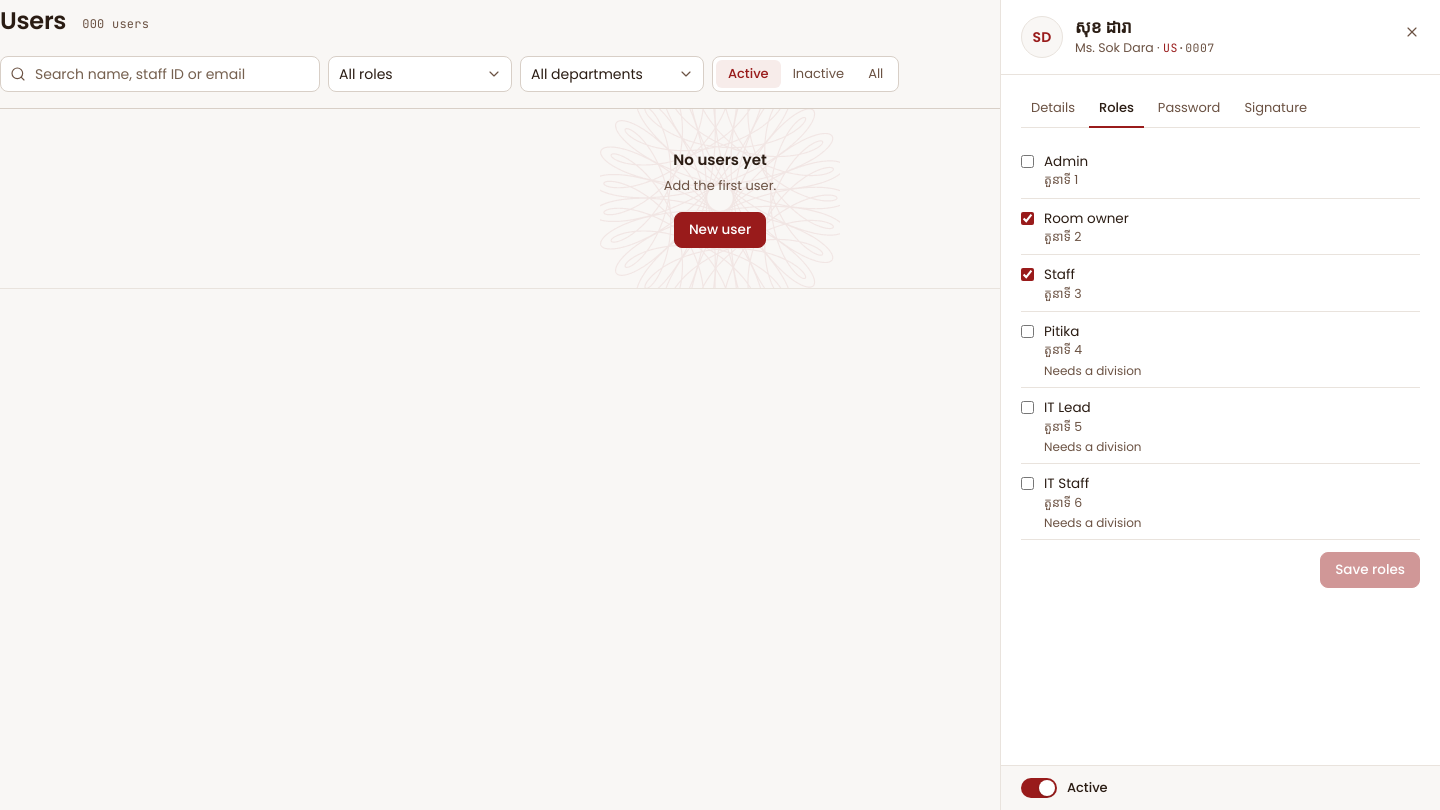
Test case: UserPanel › warns that some roles need a division, and keeps Save roles off
This screenshot has width=1440, height=810.
Click the checkbox labelled "IT Lead តួនាទី 5".
click(1028, 408)  # box top-left (1021, 401), bottom-right (1034, 414)
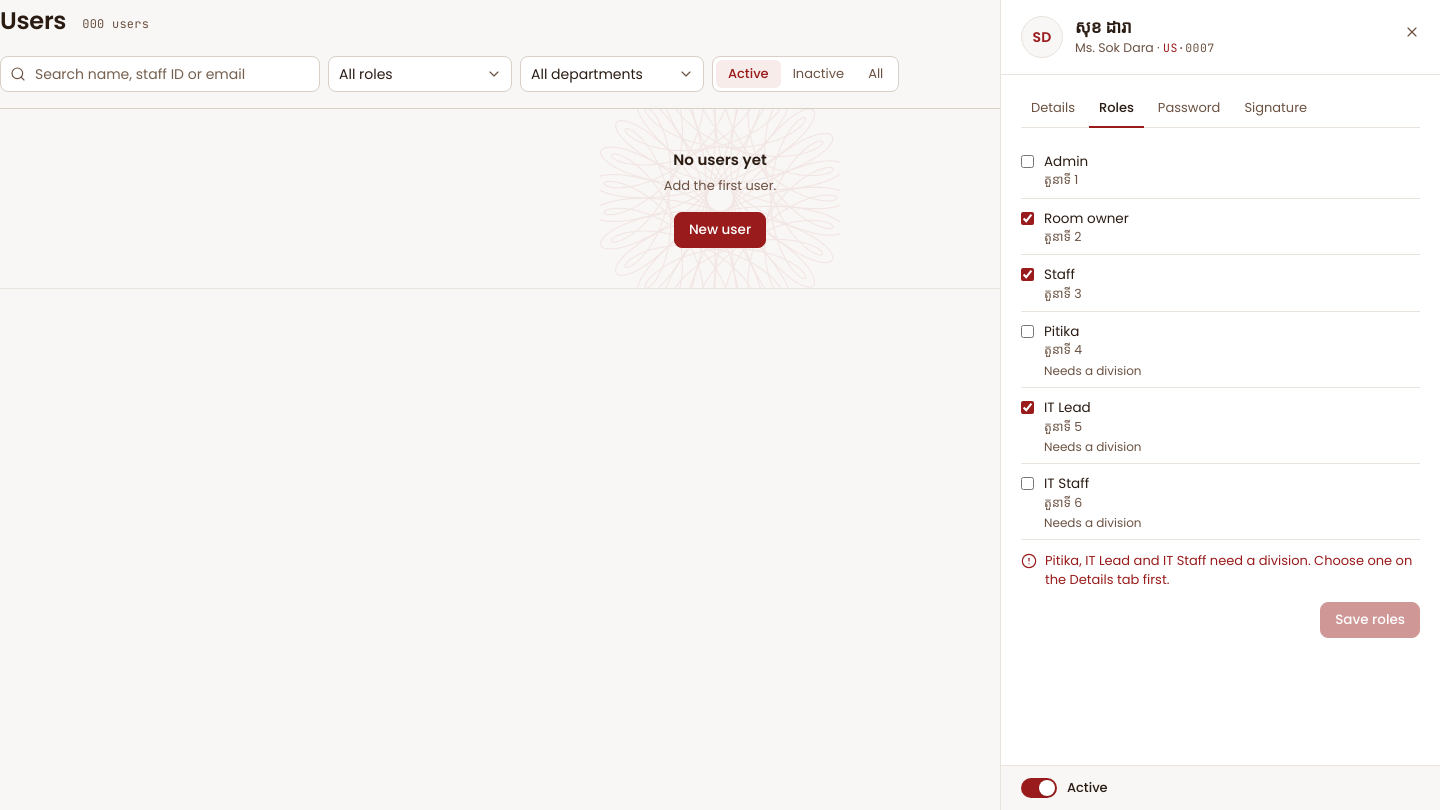
Expected: the button "Save roles" is disabled, top-left (1320, 602), bottom-right (1420, 638)
Expected: the dialog shows "Pitika, IT Lead and IT Staff need a division. Choose one on the Details tab first.", top-left (1045, 551), bottom-right (1412, 589)
